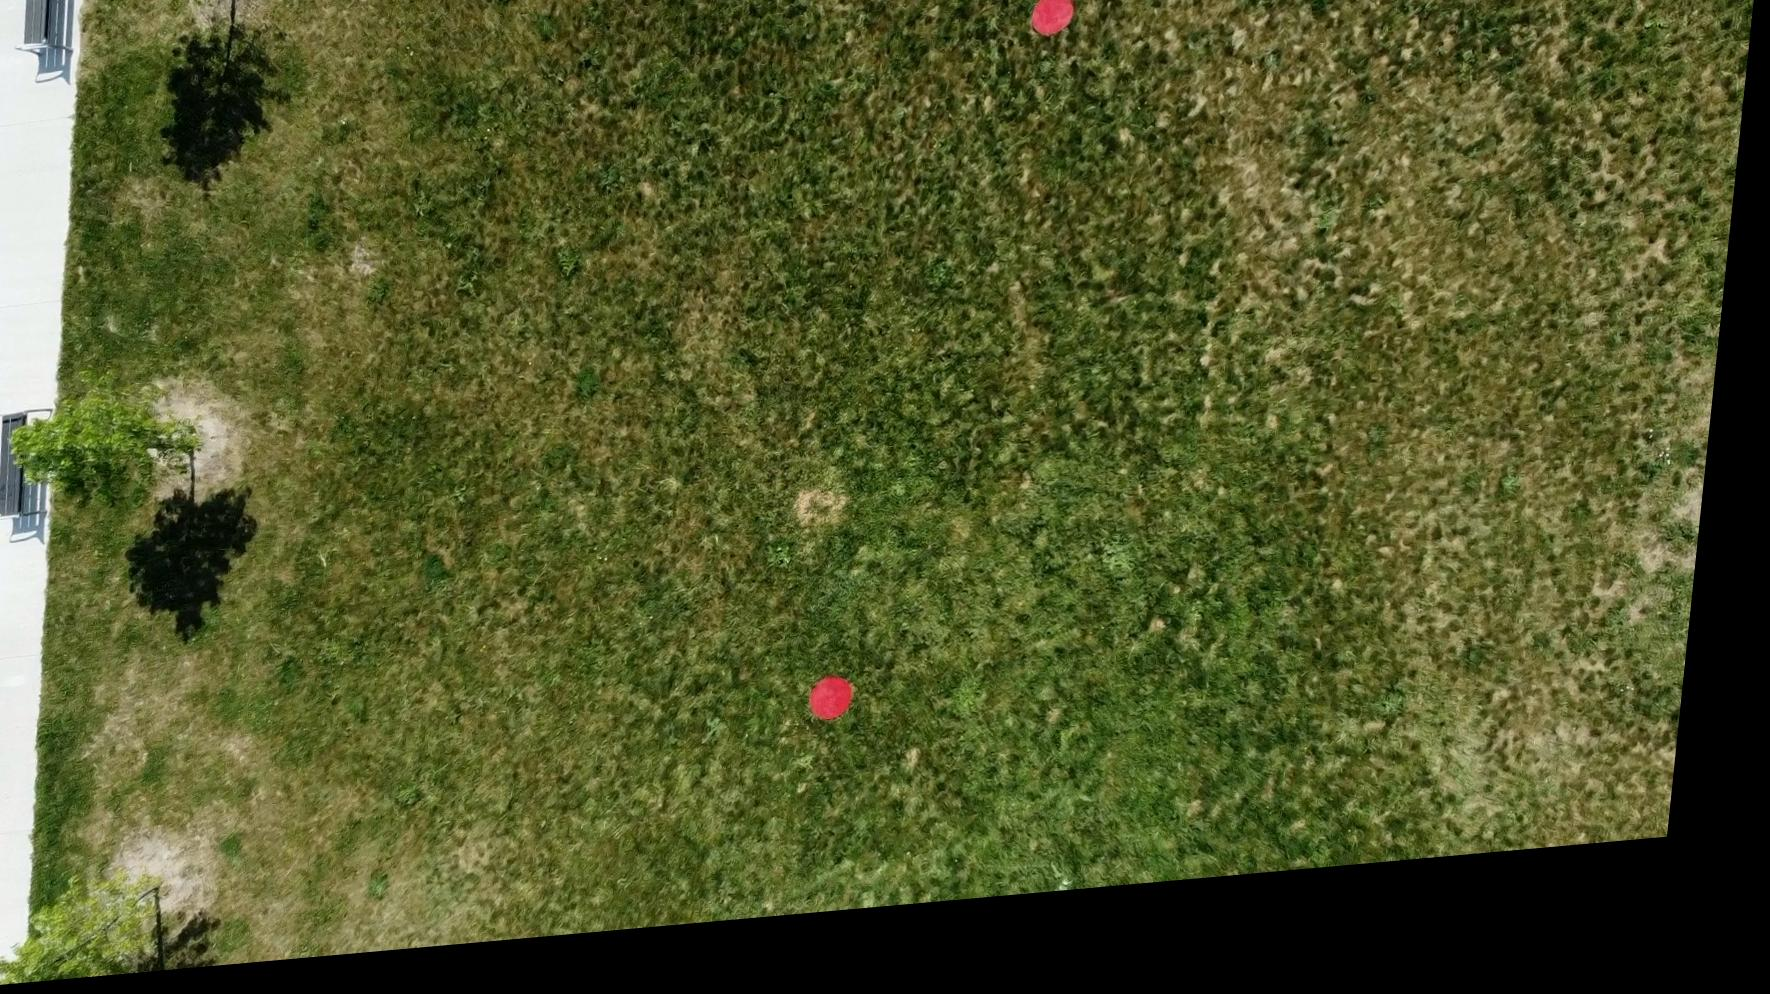Red: (1028, 6, 1081, 61), (823, 690, 874, 742)
